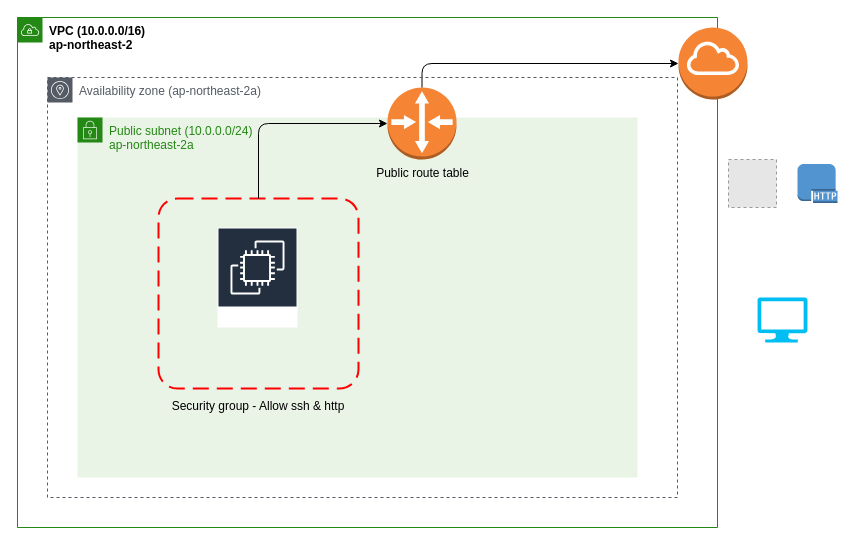
This 855x545 diagram has some shape labels left out. Grey dashed boxes stand in for pictures. The centre of each missing label's shape, as x and y in pixels:
client machine: [782,319]
Internet Gateway: [713,63]
WebApp EC2: [257,277]
